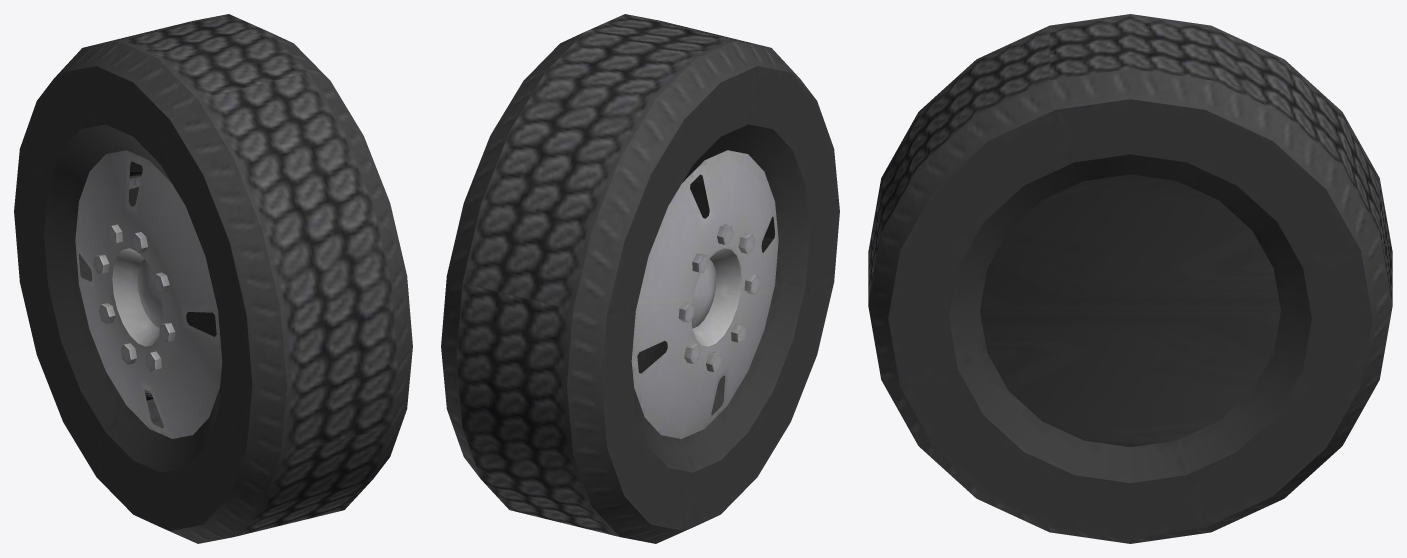
The model's file is Wheel6.fbx.
The picture shows the model from 3 angles, left to right: view 1: azimuth 30°, elevation 25°; view 2: azimuth 150°, elevation 25°; view 3: azimuth 270°, elevation 25°; orthographic projection.
Visible parts, largest first — view 1: Tire, Metal; view 2: Tire, Metal; view 3: Tire, Metal.
Boxes of the visible parts, bbox=[...] form: Tire: bbox=[14, 14, 412, 543]; Metal: bbox=[75, 150, 222, 438]; Tire: bbox=[441, 14, 839, 543]; Metal: bbox=[631, 150, 778, 438]; Tire: bbox=[868, 14, 1392, 543]; Metal: bbox=[980, 174, 1280, 447].
Size of the model in its own units: 38.9 by 107 by 107.
